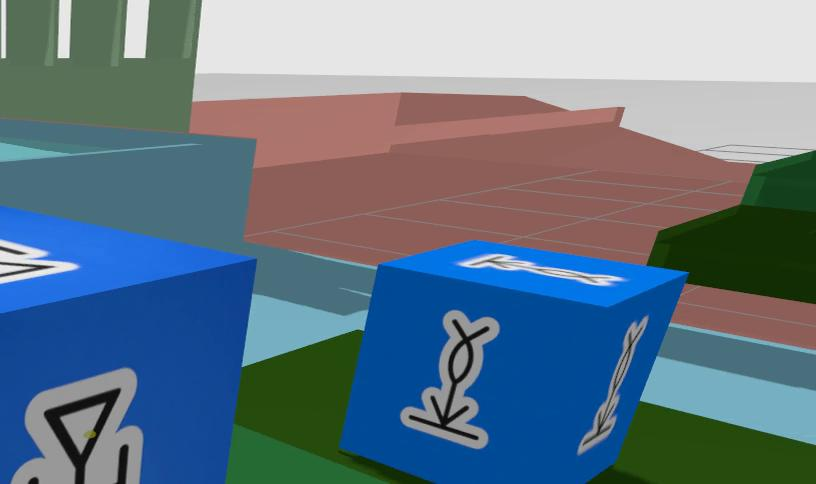KFS_REAL: (339, 240, 685, 483), (0, 205, 255, 483), (11, 368, 143, 483), (400, 310, 498, 449), (578, 317, 648, 455), (456, 253, 626, 286), (0, 239, 80, 284)
